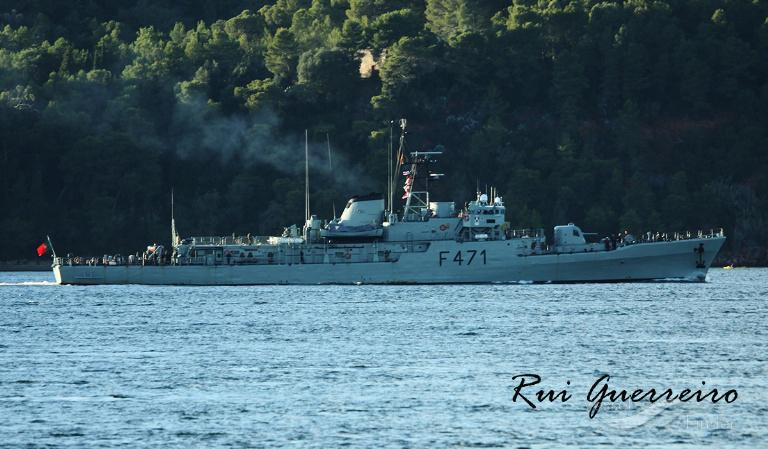OCR: (436, 243, 488, 276)
